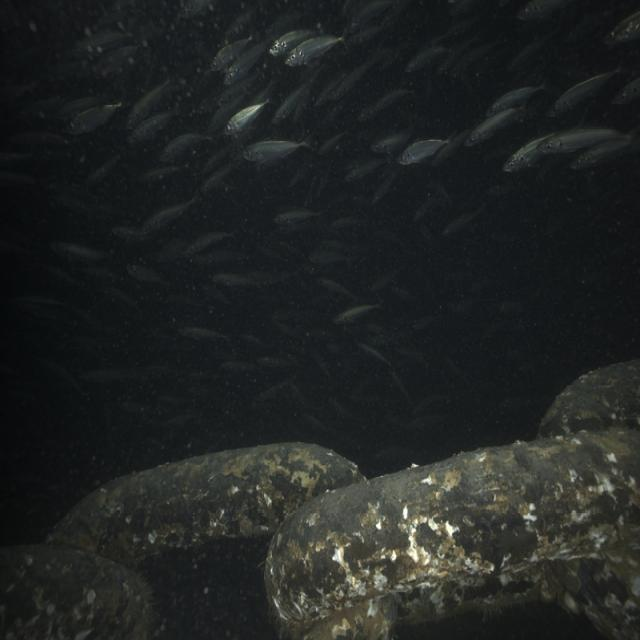ChainLink: (265, 429, 640, 630), (48, 443, 362, 567), (0, 545, 151, 639), (549, 547, 640, 638), (538, 360, 640, 438), (298, 595, 395, 639)
